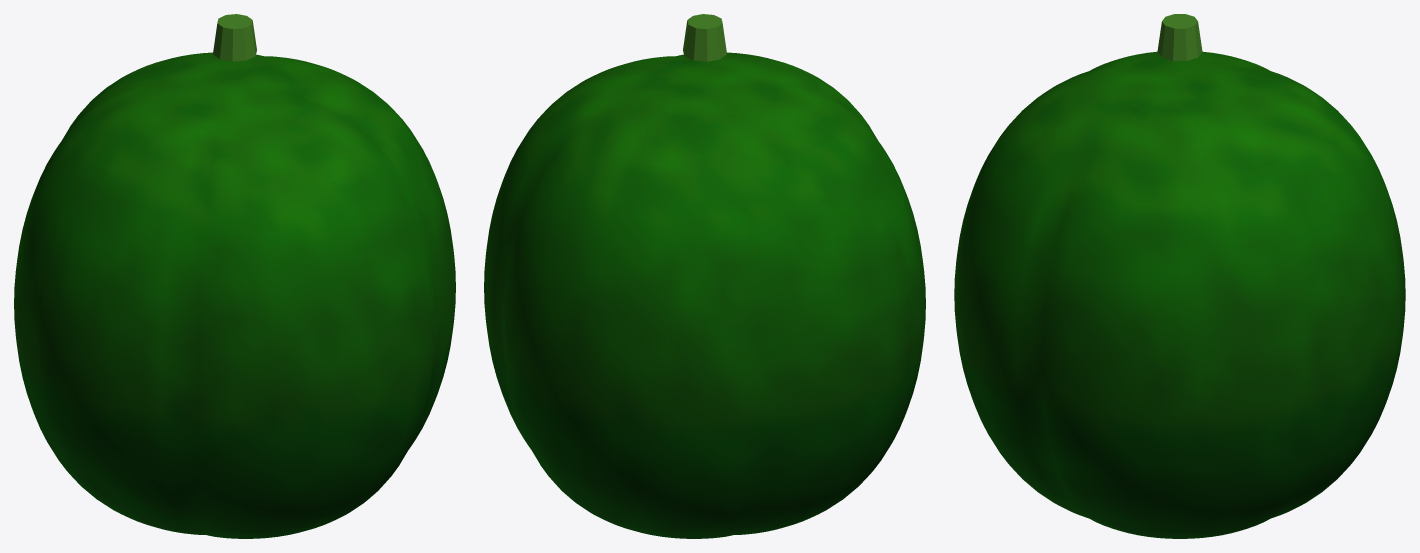
Rendered from poivron-vert.glb.
The picture shows the model from 3 angles, left to right: view 1: azimuth 30°, elevation 25°; view 2: azimuth 150°, elevation 25°; view 3: azimuth 270°, elevation 25°; orthographic projection.
Visible parts, largest first — view 1: entier_peau, moitie_B_peau, moitie_A_peau, entier_extra0; view 2: entier_peau, moitie_A_peau, moitie_B_peau, entier_extra0; view 3: entier_peau, moitie_B_peau, moitie_A_peau, entier_extra0.
Part boxes in pixels (<box>): entier_peau: <box>14,52,455,538</box>; moitie_B_peau: <box>39,73,455,538</box>; moitie_A_peau: <box>14,53,357,490</box>; entier_extra0: <box>213,14,256,61</box>; entier_peau: <box>484,52,925,538</box>; moitie_A_peau: <box>484,73,900,538</box>; moitie_B_peau: <box>578,53,925,486</box>; entier_extra0: <box>683,14,726,61</box>; entier_peau: <box>954,51,1405,538</box>; moitie_B_peau: <box>954,53,1179,538</box>; moitie_A_peau: <box>1180,52,1405,538</box>; entier_extra0: <box>1157,14,1202,60</box>.
Bounding box in the file's own units: 1.6 × 1.9 × 1.6.
